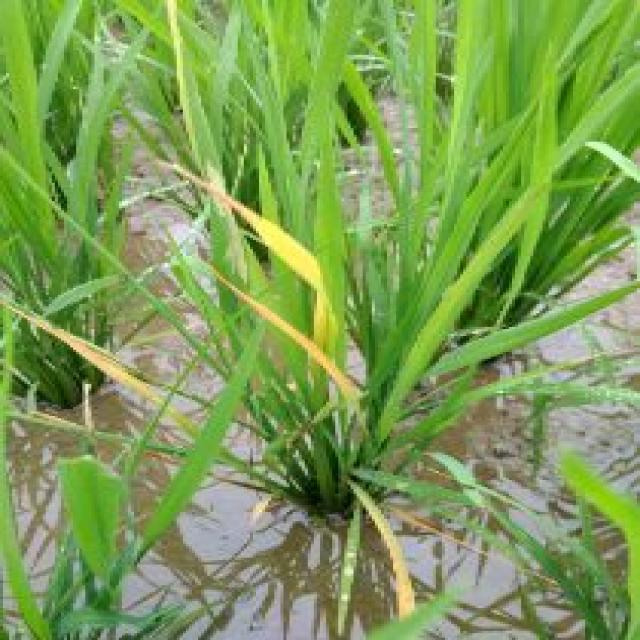Rice Tungro: (199, 161, 342, 375)
